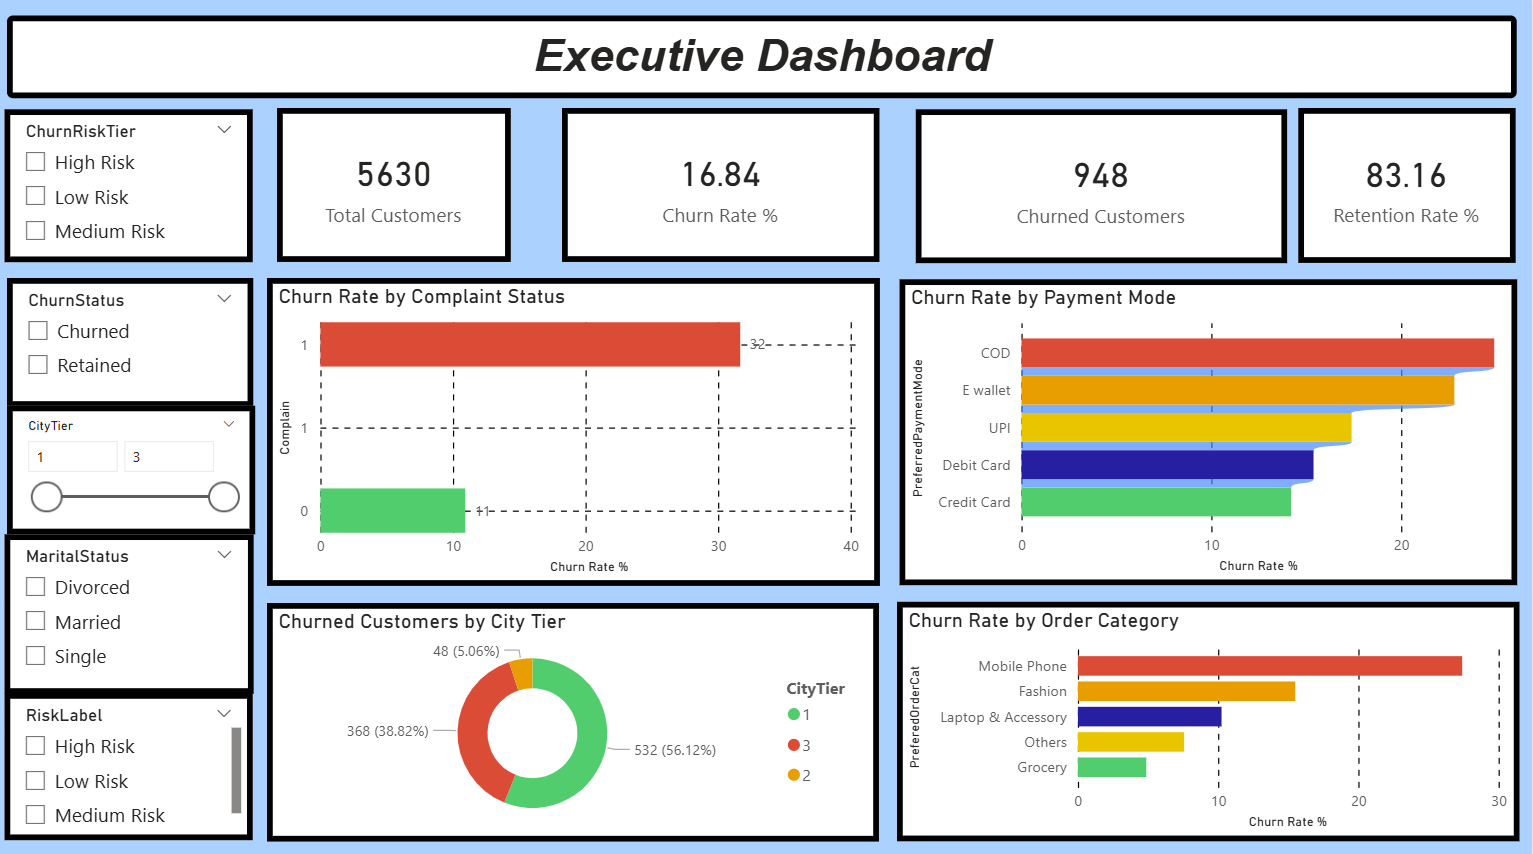

What the dashboard file says about the page in this screenshot:
{"tool":"powerbi","page":{"name":"Executive Dashboard","canvas":[1280,720],"ordinal":0},"visuals":[{"type":"card","fields":{"Values":["ecommerce.Total Customers"]},"box":[236.5,96,194.2,128],"z":0},{"type":"card","fields":{"Values":["ecommerce.Churn Rate %"]},"box":[474.1,96,263.9,128],"z":1000},{"type":"card","fields":{"Values":["ecommerce.Churned Customers"]},"box":[767.7,97.1,308.5,128],"z":2000},{"type":"card","fields":{"Values":["ecommerce.Retention Rate %"]},"box":[1086.5,96,180.5,129.1],"z":3000},{"type":"clusteredBarChart","title":"Churn Rate by Complaint Status","fields":{"Category":["ecommerce.Complain"],"Y":["ecommerce.Churn Rate %"]},"box":[228.2,236.5,509.2,256],"z":4000},{"type":"barChart","title":"Churn Rate by Payment Mode","fields":{"Category":["ecommerce.PreferredPaymentMode"],"Y":["ecommerce.Churn Rate %"]},"box":[754.1,237.9,513.4,254.6],"z":5000},{"type":"barChart","title":"Churn Rate by Order Category","fields":{"Category":["ecommerce.PreferedOrderCat"],"Y":["ecommerce.Churn Rate %"]},"box":[752.7,506.4,517.6,199],"z":6000},{"type":"donutChart","title":"Churned Customers by City Tier","fields":{"Category":["ecommerce.CityTier"],"Y":["ecommerce.Churned Customers"]},"box":[228.1,506.7,509.1,198.1],"z":7000},{"type":"slicer","fields":{"Values":["ecommerce.MaritalStatus"]},"box":[10.5,450,207,132.6],"z":8000},{"type":"slicer","fields":{"Values":["ecommerce.ChurnStatus"]},"box":[12.5,236.5,204.5,107.1],"z":9000},{"type":"slicer","fields":{"Values":["ecommerce.CityTier"]},"box":[12,343.4,206.5,106.9],"z":10000},{"type":"slicer","fields":{"Values":["ecommerce.RiskLabel"]},"box":[10.8,582.4,206.5,122.5],"z":11000},{"type":"textbox","box":[12.3,19.2,1255.6,68.6],"z":12000},{"type":"slicer","fields":{"Values":["ecommerce.ChurnRiskTier"]},"box":[10.3,97.1,206.8,126.8],"z":13000}]}

Visuals, with their boxes in screenshot pixels (x1, y1, x2, y2), scaled from the page's 1280x720 canvas onto the 1533x854 screenshot:
card - ecommerce.Total Customers: (x1=283, y1=114, x2=516, y2=266)
card - ecommerce.Churn Rate %: (x1=568, y1=114, x2=884, y2=266)
card - ecommerce.Churned Customers: (x1=919, y1=115, x2=1289, y2=267)
card - ecommerce.Retention Rate %: (x1=1301, y1=114, x2=1517, y2=267)
"Churn Rate by Complaint Status" clusteredBarChart: (x1=273, y1=281, x2=883, y2=584)
"Churn Rate by Payment Mode" barChart: (x1=903, y1=282, x2=1518, y2=584)
"Churn Rate by Order Category" barChart: (x1=901, y1=601, x2=1521, y2=837)
"Churned Customers by City Tier" donutChart: (x1=273, y1=601, x2=883, y2=836)
slicer - ecommerce.MaritalStatus: (x1=13, y1=534, x2=260, y2=691)
slicer - ecommerce.ChurnStatus: (x1=15, y1=281, x2=260, y2=408)
slicer - ecommerce.CityTier: (x1=14, y1=407, x2=262, y2=534)
slicer - ecommerce.RiskLabel: (x1=13, y1=691, x2=260, y2=836)
textbox: (x1=15, y1=23, x2=1519, y2=104)
slicer - ecommerce.ChurnRiskTier: (x1=12, y1=115, x2=260, y2=266)
